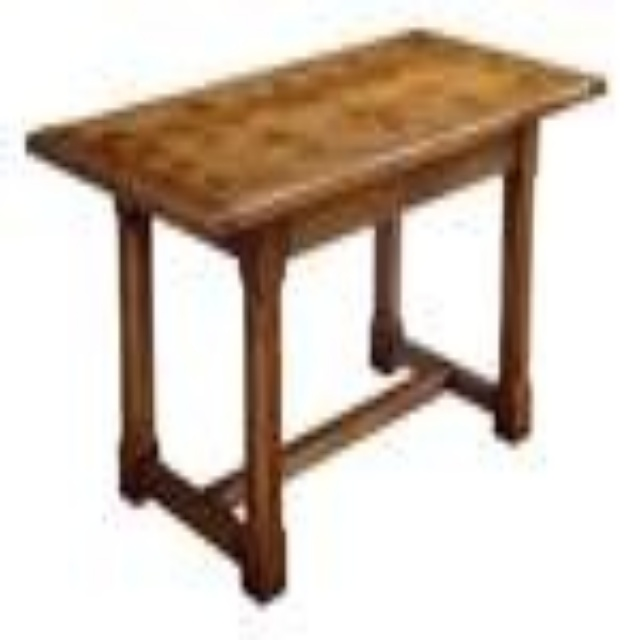obstacle: (26, 29, 602, 589)
